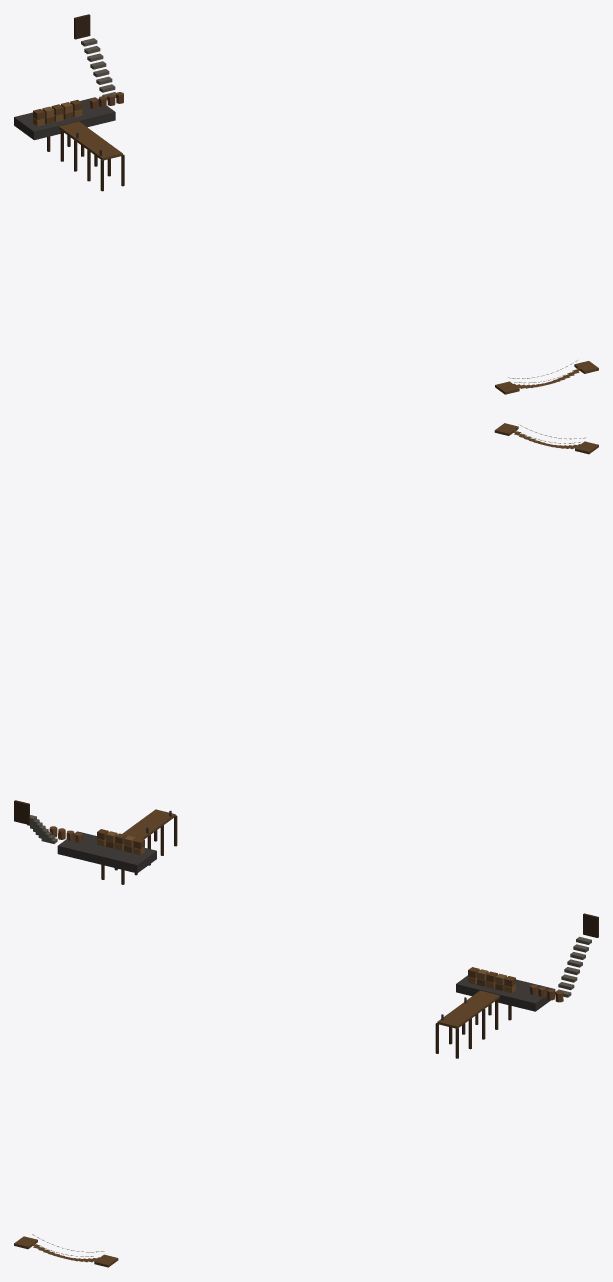
The model's file is cave_smugglers_throat_props_lod1.glb.
3 views of the same model, one above another, from view 1: azimuth 30°, elevation 25°; view 2: azimuth 150°, elevation 25°; view 3: azimuth 330°, elevation 25° (orthographic). The views are drawn at different scales.
Visible parts, largest first — view 1: geometry_0; view 2: geometry_0; view 3: geometry_0.
Boxes of the visible parts, x1=… form: geometry_0: x1=14, y1=14, x2=598, y2=394; geometry_0: x1=14, y1=423, x2=598, y2=884; geometry_0: x1=14, y1=913, x2=598, y2=1267.
Bounding box in the file's own units: 18.03 × 18.74 × 151.
